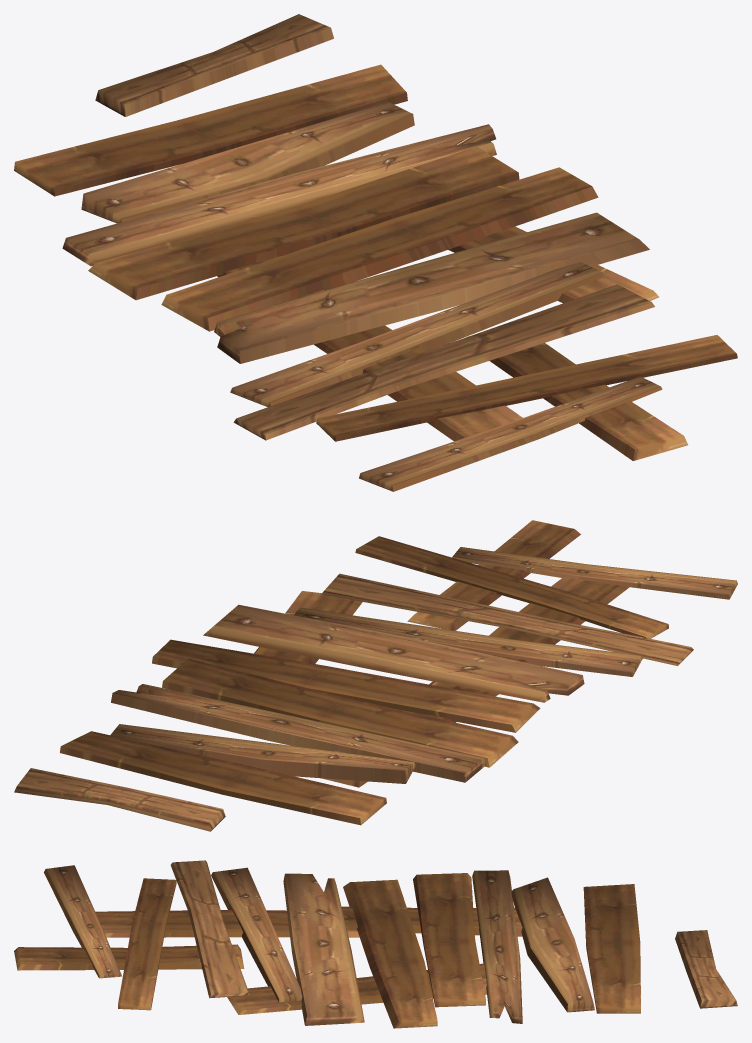
Rendered from wood018.FBX.
3 renders of one model, top to bottom at view 1: azimuth 30°, elevation 25°; view 2: azimuth 150°, elevation 25°; view 3: azimuth 270°, elevation 25°, orthographic. The views are drawn at different scales.
Parts seen in each view (by area): view 1: Object019; view 2: Object019; view 3: Object019.
Boxes of the visible parts, box(x1,y1,x2,y2) form: Object019: box(14, 14, 737, 491); Object019: box(14, 520, 737, 831); Object019: box(14, 860, 737, 1028).
Bounding box in the file's own units: 517 × 29.25 × 936.
